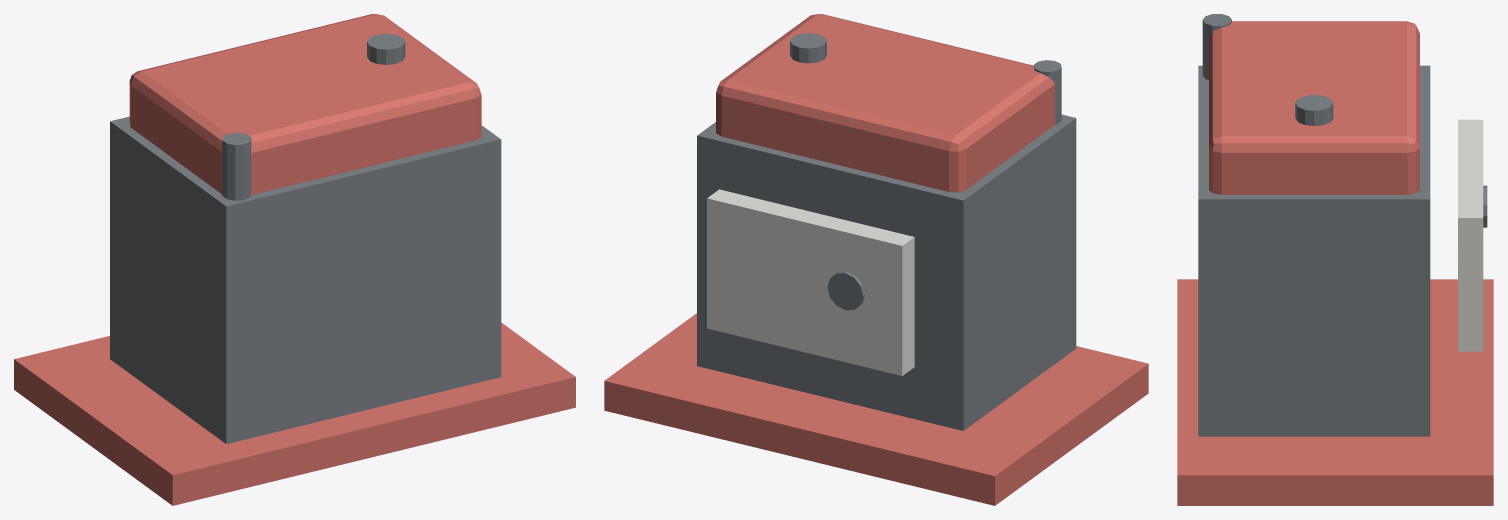
The model's file is Base_Generator_Diesel.fbx.
The picture shows the model from 3 angles, left to right: view 1: azimuth 30°, elevation 25°; view 2: azimuth 150°, elevation 25°; view 3: azimuth 270°, elevation 25°; orthographic projection. The views are drawn at different scales.
Visible parts, largest first — view 1: Base_Generator_Diesel; view 2: Base_Generator_Diesel; view 3: Base_Generator_Diesel.
Part boxes in pixels (left/top/right/bottom): Base_Generator_Diesel: left=14, top=14, right=575, bottom=505; Base_Generator_Diesel: left=604, top=14, right=1148, bottom=505; Base_Generator_Diesel: left=1177, top=14, right=1493, bottom=505.
Bounding box in the file's own units: 1.1 × 0.9 × 0.75.
